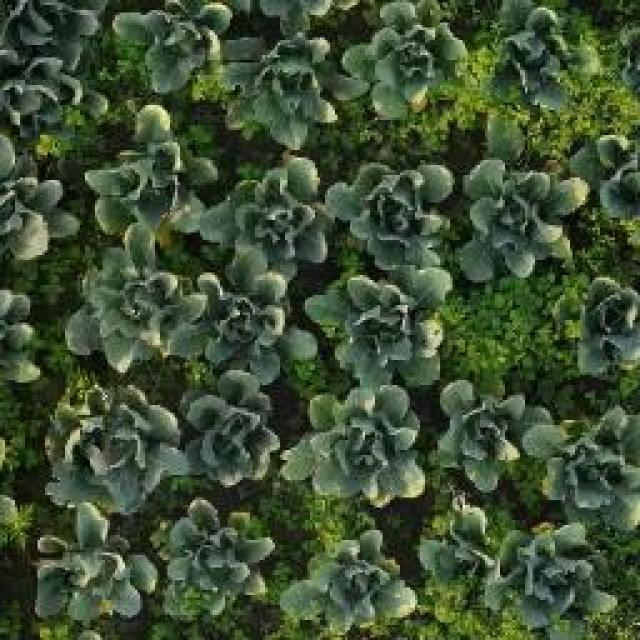cabbage: (63, 221, 196, 368), (32, 496, 163, 627), (163, 364, 297, 489), (86, 114, 220, 238), (199, 151, 334, 272), (222, 24, 360, 139), (281, 527, 422, 637), (155, 502, 279, 624), (456, 162, 586, 278), (177, 268, 320, 370), (489, 526, 616, 640), (525, 400, 640, 524), (304, 389, 425, 499), (53, 390, 165, 508), (331, 270, 450, 381), (333, 158, 455, 264), (357, 5, 470, 116), (435, 379, 544, 489), (108, 0, 230, 80), (0, 139, 80, 258), (489, 8, 586, 102), (551, 280, 640, 378), (420, 495, 503, 585), (0, 0, 104, 67), (567, 132, 640, 219), (0, 72, 95, 128)
